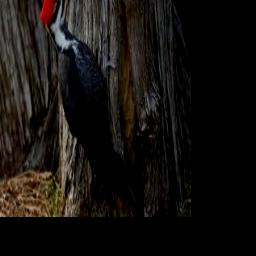Woodpecker: (39, 0, 140, 214)
